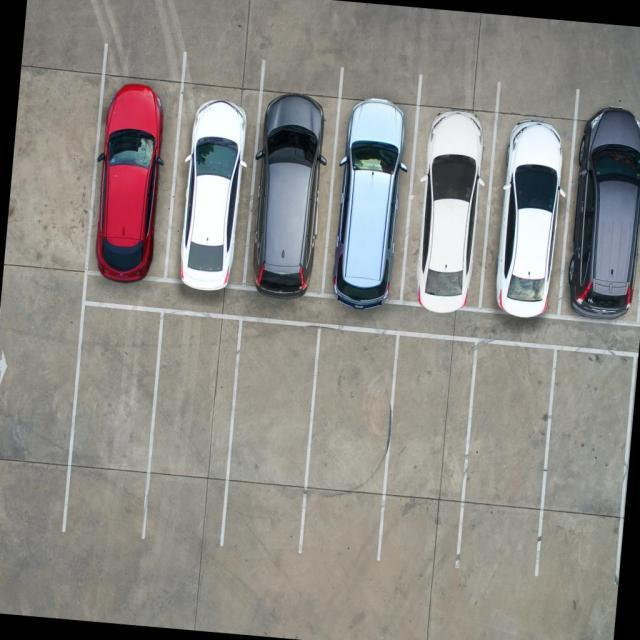car: (244, 80, 345, 300), (322, 82, 418, 304), (398, 96, 499, 306), (476, 93, 570, 314), (84, 75, 184, 279), (164, 77, 260, 289), (554, 106, 640, 326)
free: (142, 312, 242, 546), (536, 346, 634, 575), (224, 320, 322, 546), (380, 334, 478, 558), (460, 343, 556, 564), (64, 306, 158, 530), (306, 332, 400, 556)
